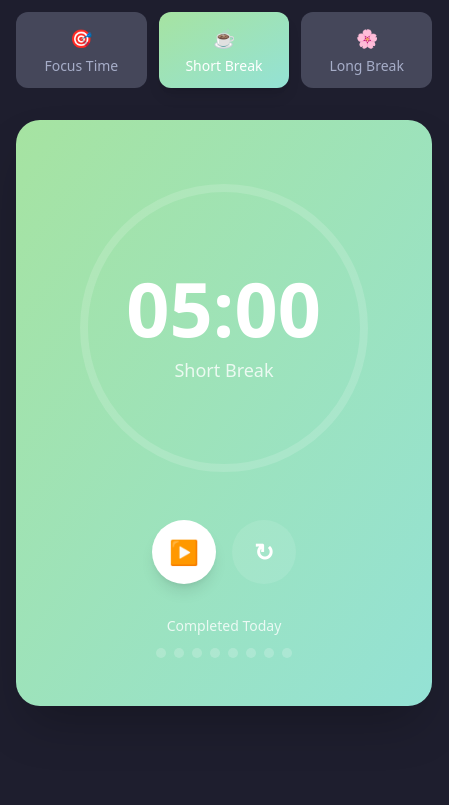
Test: PomodoroTimer › Timer Controls › can start timer by clicking play button
Click the button "▶": (184, 552) [152, 520, 216, 584]
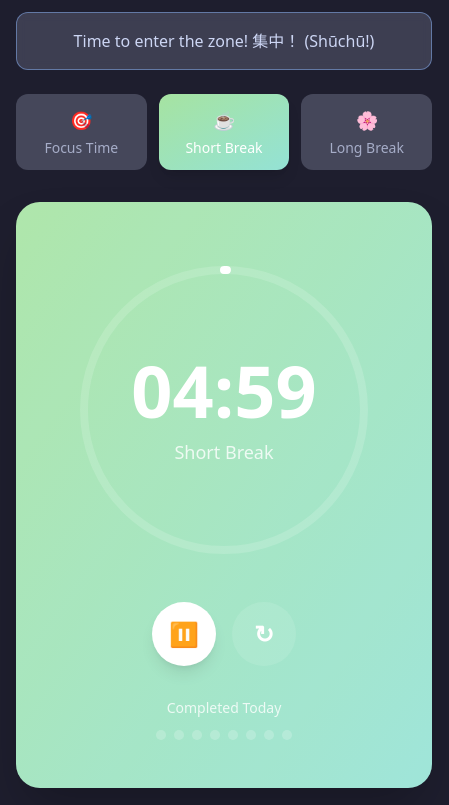
Now the button "⏸" is shown, box [152, 602, 216, 666]
